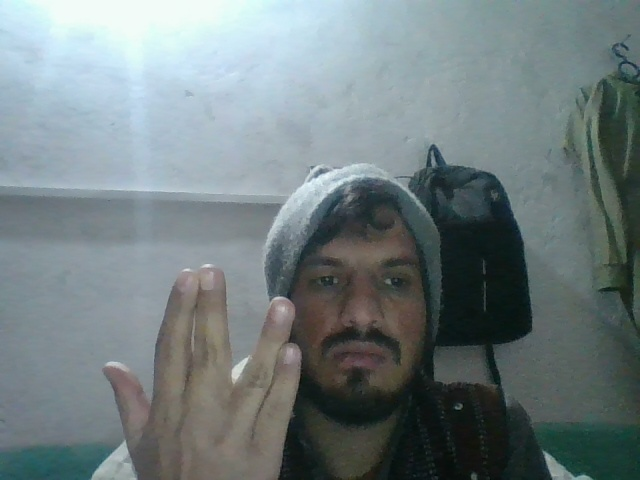LiveLong: (90, 264, 309, 479)
